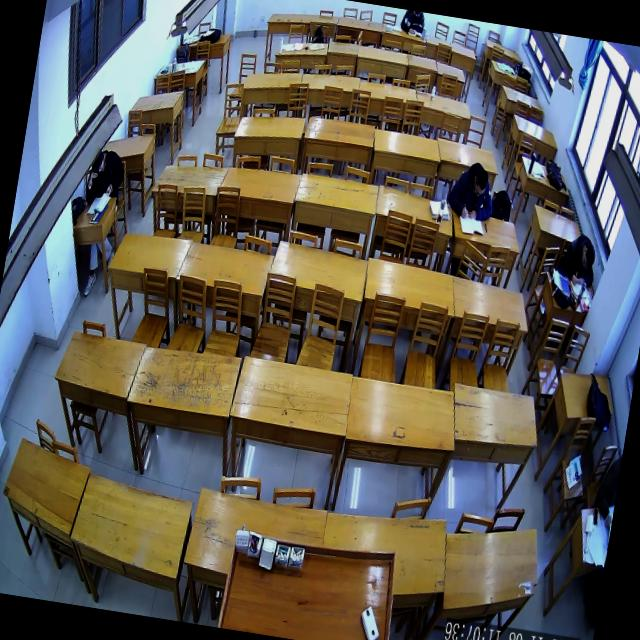down: (470, 167, 491, 199), (578, 242, 598, 273), (89, 148, 107, 178)
sit: (444, 156, 501, 223), (83, 144, 130, 210), (556, 229, 602, 290)
